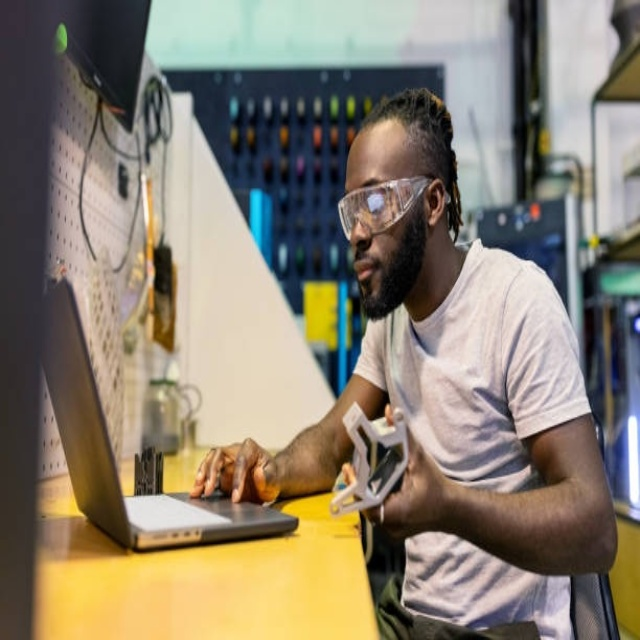Gafas: (337, 171, 436, 243)
Sin_guantes: (362, 414, 452, 544), (190, 442, 279, 506)
Sin_mascara: (347, 246, 387, 304)
